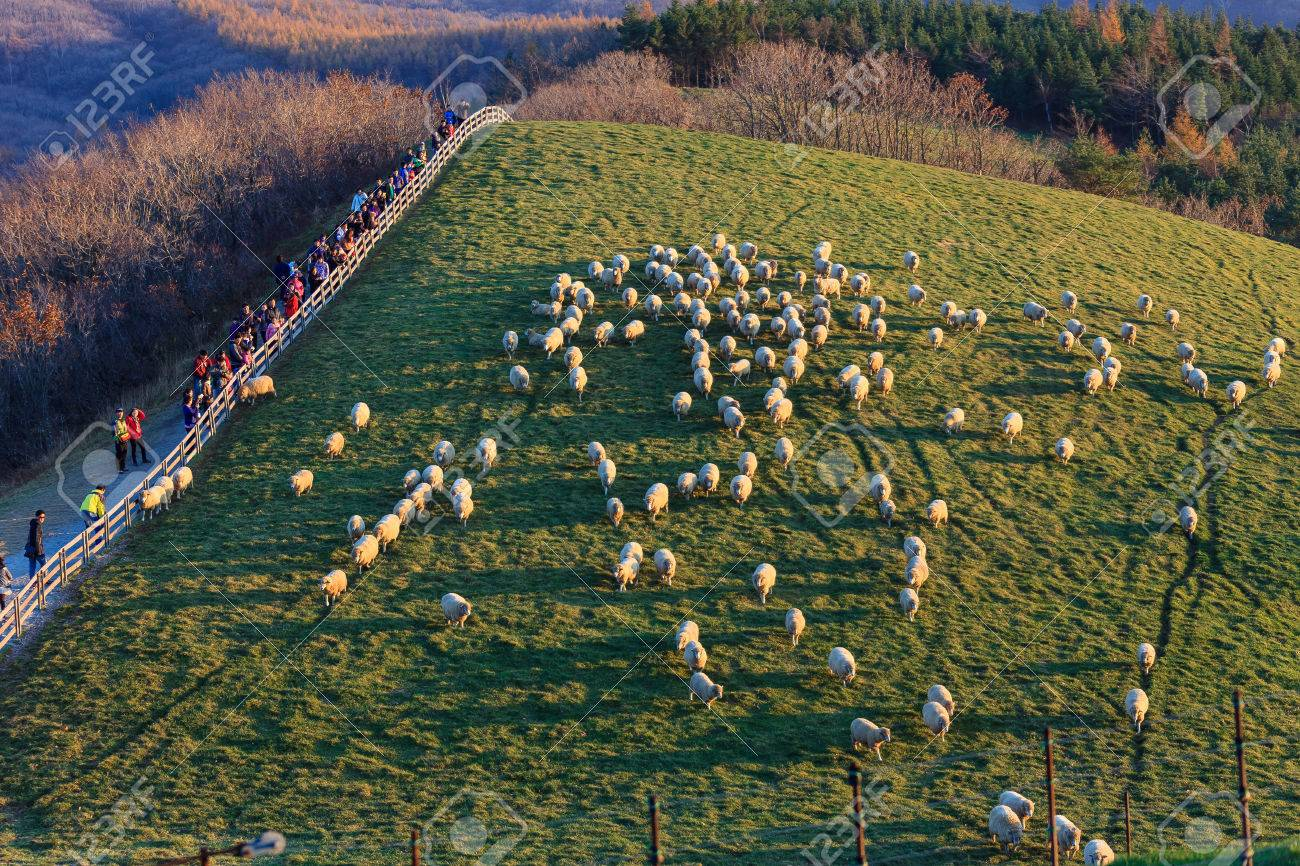sheep: (985, 802, 1026, 858), (848, 716, 892, 764), (1043, 810, 1084, 855), (919, 698, 954, 743), (998, 784, 1035, 826), (688, 671, 723, 712), (439, 592, 472, 632), (827, 645, 859, 686), (240, 374, 278, 406), (1120, 686, 1148, 729), (642, 482, 670, 523), (317, 567, 347, 605), (751, 562, 777, 604), (373, 513, 401, 552), (352, 534, 379, 574), (784, 605, 808, 648), (926, 684, 958, 716), (653, 548, 679, 586), (903, 558, 931, 592), (1135, 640, 1160, 678), (681, 640, 708, 675), (614, 557, 640, 592), (674, 618, 700, 652), (721, 405, 747, 438), (898, 588, 921, 625), (729, 473, 752, 510), (1000, 410, 1024, 445), (1184, 366, 1210, 398), (1176, 504, 1201, 537), (288, 467, 314, 498), (696, 462, 719, 497), (925, 497, 949, 529), (433, 438, 456, 471), (941, 406, 966, 436), (348, 401, 370, 435), (771, 397, 794, 429), (1023, 300, 1049, 328), (1084, 842, 1114, 866), (568, 366, 588, 402), (692, 365, 713, 399), (542, 326, 564, 358), (755, 343, 777, 375), (850, 375, 869, 412), (411, 482, 434, 512), (323, 430, 346, 460), (775, 436, 794, 472), (451, 496, 473, 527), (508, 364, 530, 395), (477, 438, 497, 472), (814, 273, 840, 299), (573, 286, 597, 314), (782, 355, 805, 384), (597, 460, 616, 495), (1090, 336, 1112, 366), (1083, 366, 1104, 397), (671, 391, 692, 422), (600, 265, 624, 292), (392, 497, 415, 525), (677, 469, 697, 501), (1226, 379, 1248, 408), (423, 463, 445, 492), (623, 320, 645, 349), (1053, 436, 1074, 466), (448, 478, 473, 503), (851, 301, 871, 332), (642, 294, 662, 325), (738, 449, 758, 479), (874, 368, 894, 398), (904, 534, 926, 561), (586, 439, 606, 468), (606, 496, 624, 528), (727, 360, 751, 384), (345, 514, 366, 541), (788, 337, 808, 364), (595, 321, 614, 349), (810, 323, 829, 351), (813, 259, 834, 284), (908, 282, 927, 309), (1263, 361, 1281, 389), (969, 308, 988, 334), (755, 285, 773, 312), (523, 325, 545, 347), (503, 329, 518, 360), (871, 314, 887, 343), (403, 469, 423, 492), (696, 274, 713, 301), (903, 249, 921, 274), (666, 272, 684, 297), (719, 334, 736, 360), (1059, 329, 1075, 356), (622, 284, 638, 310), (753, 260, 771, 283), (868, 349, 883, 376), (1165, 306, 1181, 331), (1177, 342, 1196, 363), (1061, 291, 1078, 314), (587, 260, 604, 283), (1137, 293, 1152, 319), (928, 327, 944, 351), (733, 290, 749, 314), (644, 260, 662, 281), (545, 302, 564, 321), (740, 242, 758, 262), (712, 233, 726, 255), (555, 273, 571, 291)
